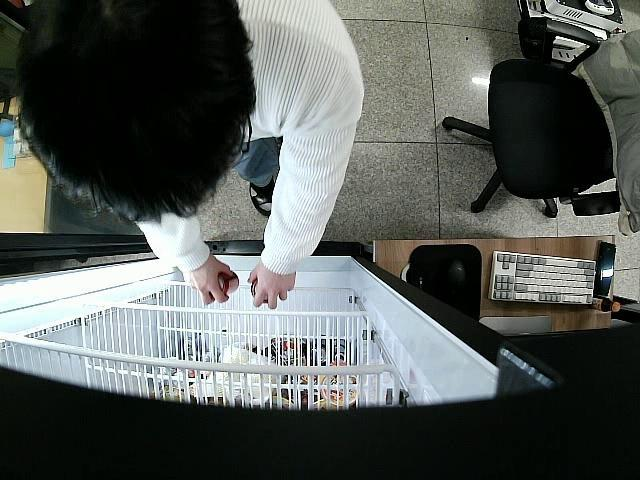11_cocaColaZero: (212, 270, 240, 300), (250, 278, 268, 304)
